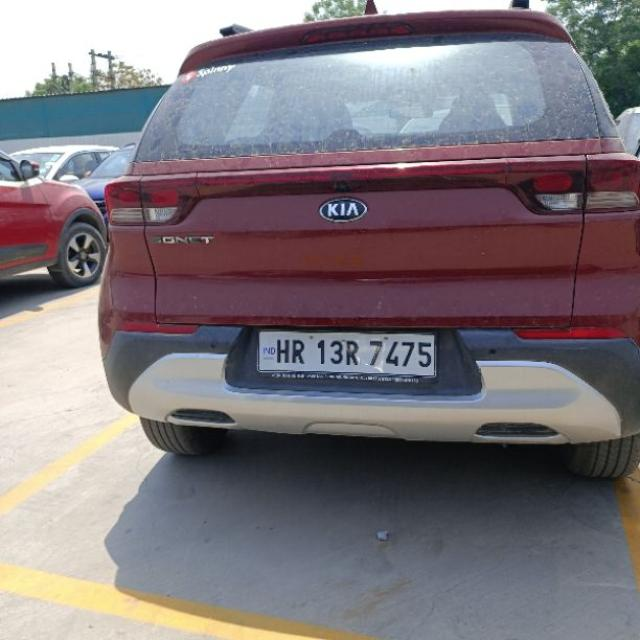license_plate: (254, 326, 438, 381)
